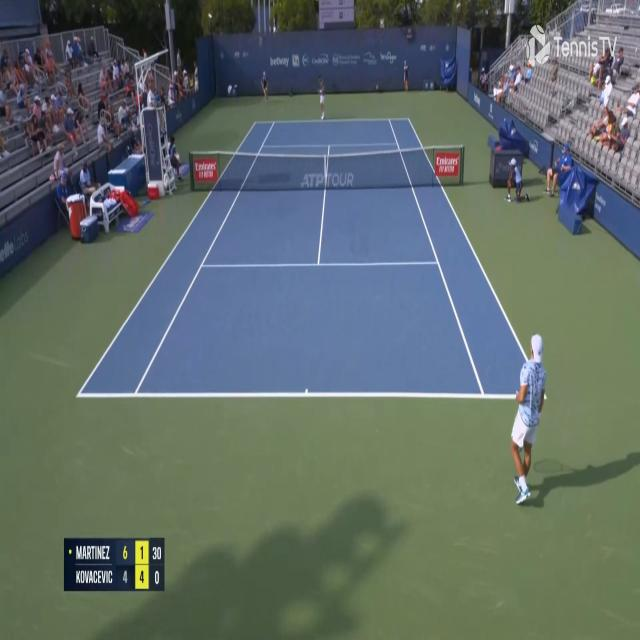tennis-player: (509, 327, 548, 509), (316, 72, 327, 122)
